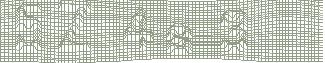3: (218, 8, 249, 55)
4: (121, 6, 157, 54)
5: (13, 2, 44, 53)
Z: (55, 1, 94, 55)
s: (163, 22, 195, 55)
